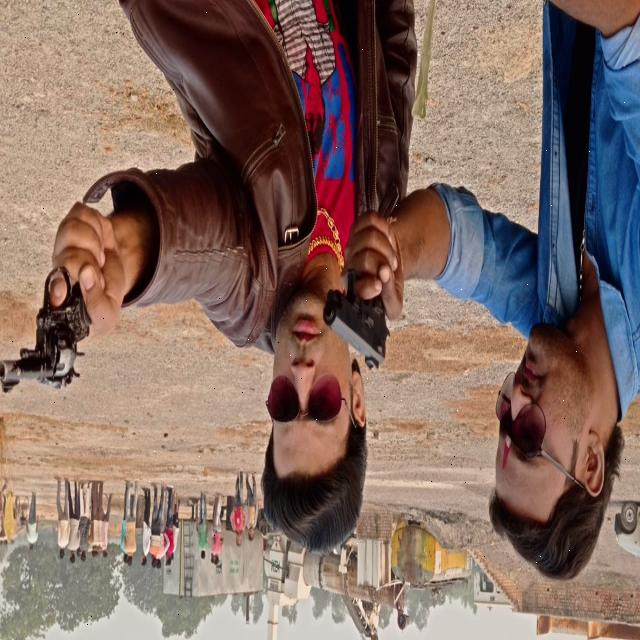gun: (0, 213, 112, 415), (319, 216, 407, 374)
